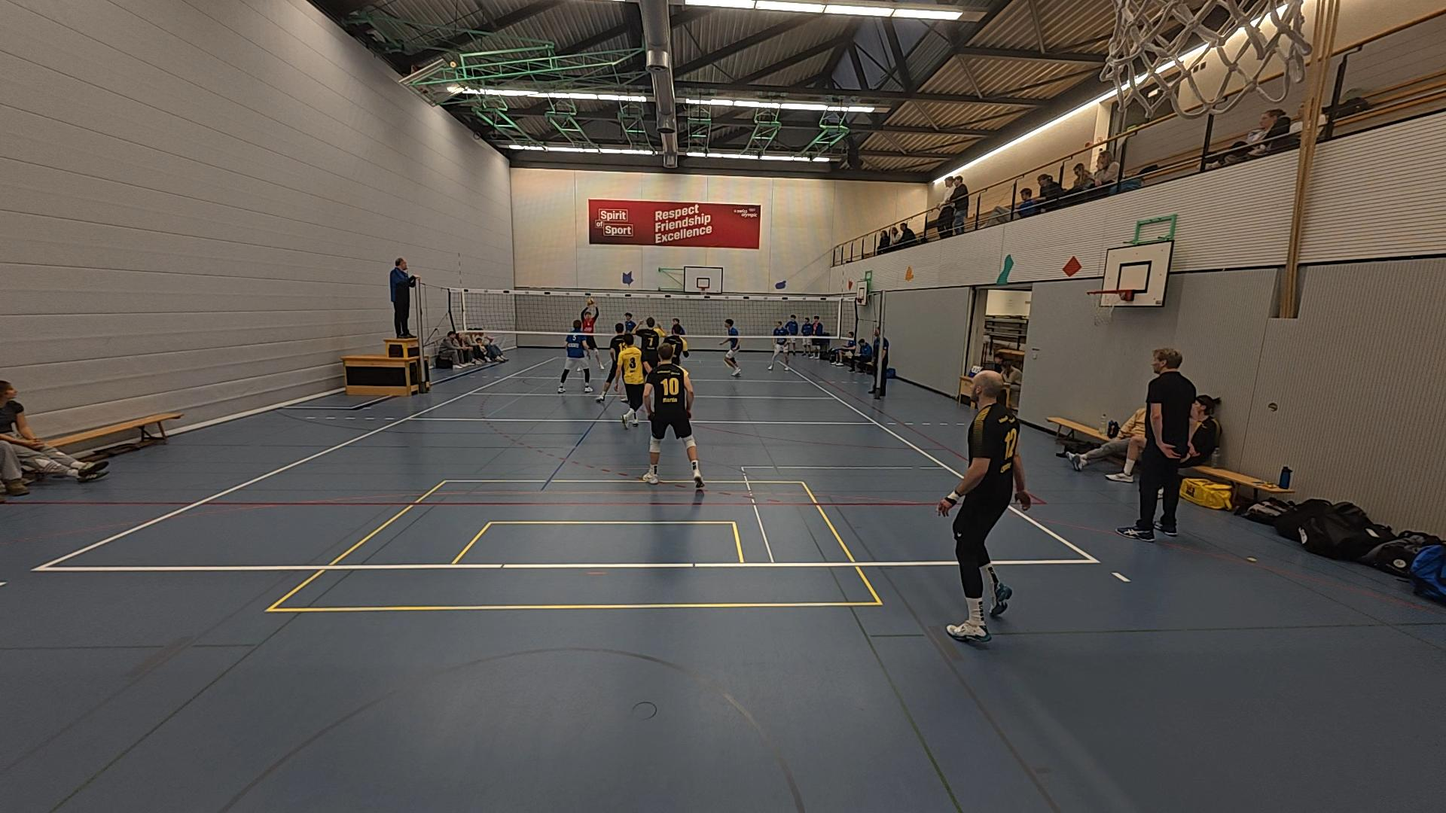Player: (937, 365, 1037, 643), (644, 341, 704, 489), (593, 310, 636, 404), (612, 333, 651, 428), (555, 319, 595, 395), (636, 312, 660, 406), (714, 316, 747, 380), (659, 322, 689, 367), (766, 319, 791, 371), (664, 316, 689, 357), (622, 311, 637, 334)
Receive: (576, 298, 606, 372)
ball: (587, 297, 595, 306)
